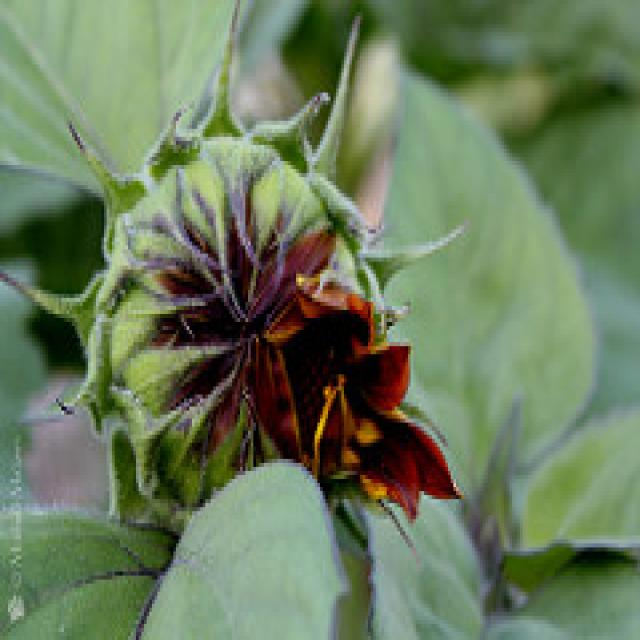sunflower: (3, 0, 464, 546)
